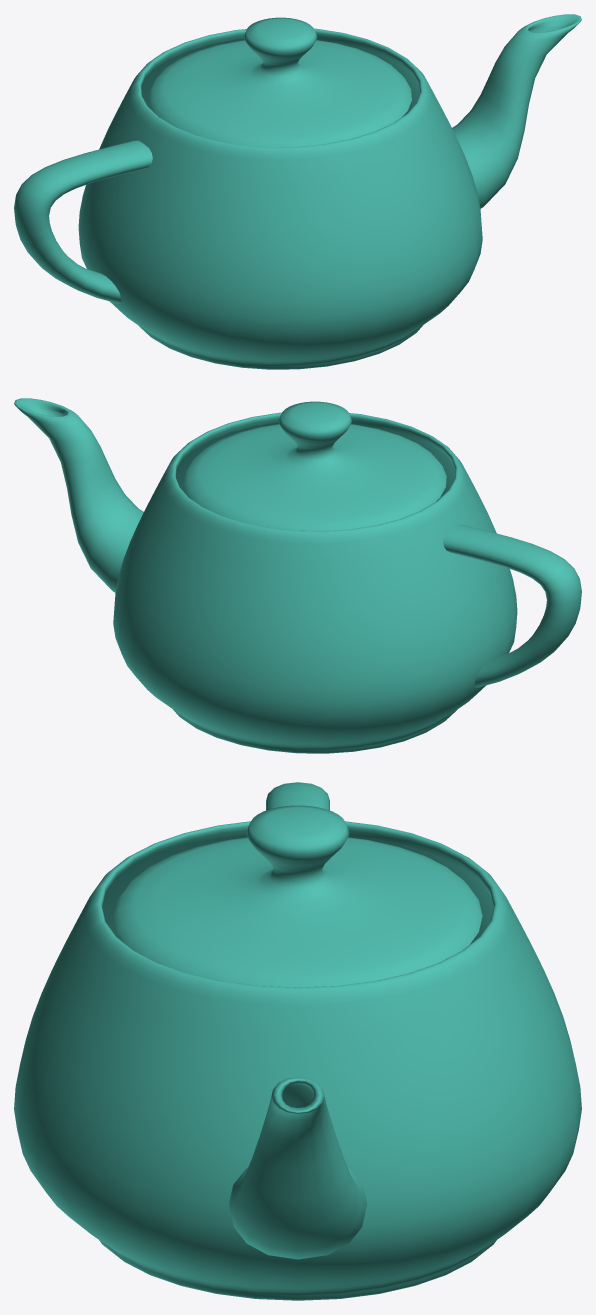
File: Teapot.FBX
The picture shows the model from 3 angles, top to bottom: view 1: azimuth 30°, elevation 25°; view 2: azimuth 150°, elevation 25°; view 3: azimuth 270°, elevation 25°; orthographic projection. The views are drawn at different scales.
Parts seen in each view (by area): view 1: Teapot001; view 2: Teapot001; view 3: Teapot001.
Boxes of the visible parts, left/top/right/bottom form: Teapot001: left=14, top=14, right=581, bottom=369; Teapot001: left=14, top=398, right=581, bottom=753; Teapot001: left=14, top=782, right=581, bottom=1300.
Bounding box in the file's own units: 13.06 × 6.39 × 8.12.
